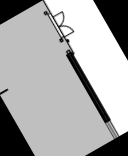double door: (52, 10, 76, 39)
wall: (63, 50, 113, 126)
